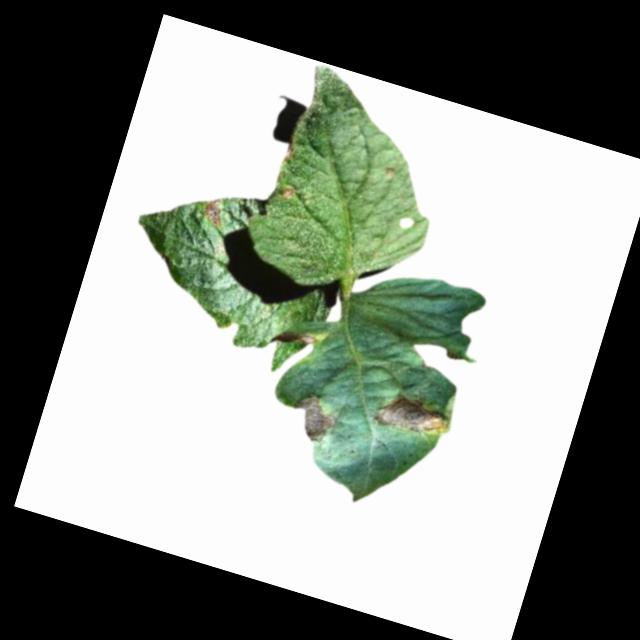Early_blight: (374, 382, 454, 446), (285, 387, 342, 448), (267, 320, 316, 356), (201, 196, 229, 229), (280, 140, 297, 164), (280, 183, 295, 201)
